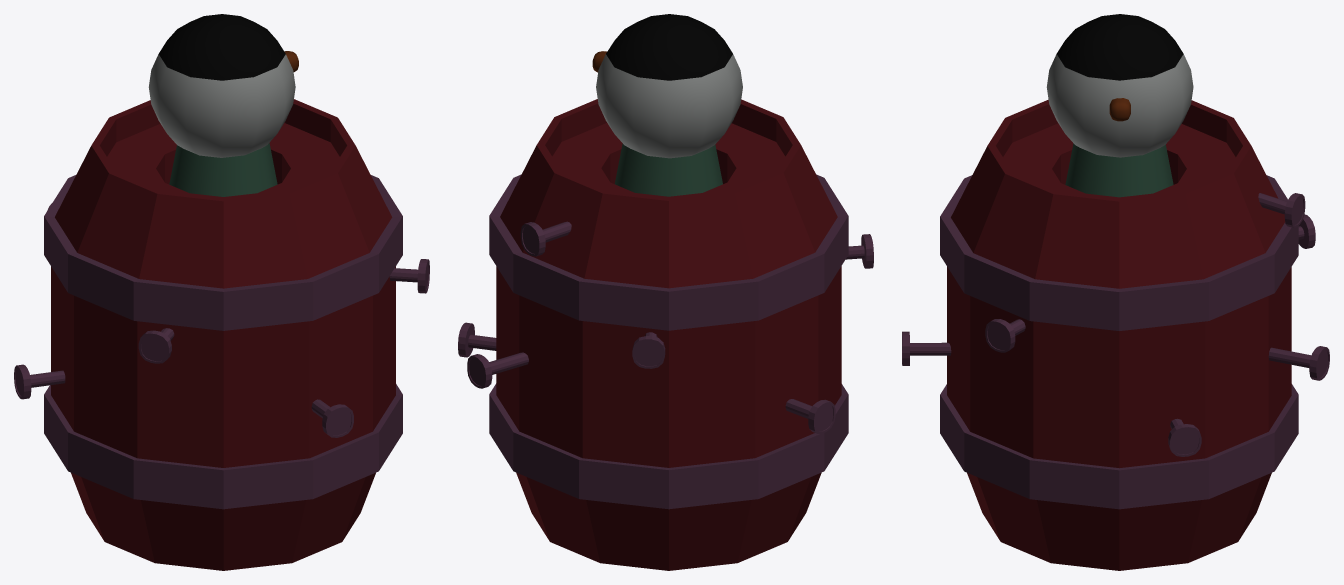
Rendered from SM_Pirate.fbx.
The picture shows the model from 3 angles, left to right: view 1: azimuth 30°, elevation 25°; view 2: azimuth 150°, elevation 25°; view 3: azimuth 270°, elevation 25°; orthographic projection.
Visible parts, largest first — view 1: polySurface4, pSphere3; view 2: polySurface4, pSphere3; view 3: polySurface4, pSphere3.
Boxes of the visible parts, left/top/right/bottom form: polySurface4: left=14, top=99, right=429, bottom=570; pSphere3: left=148, top=14, right=298, bottom=196; polySurface4: left=458, top=99, right=873, bottom=570; pSphere3: left=592, top=14, right=742, bottom=196; polySurface4: left=902, top=99, right=1329, bottom=570; pSphere3: left=1046, top=14, right=1193, bottom=197.
Size of the model in its own units: 34.58 by 45.33 by 35.73.
